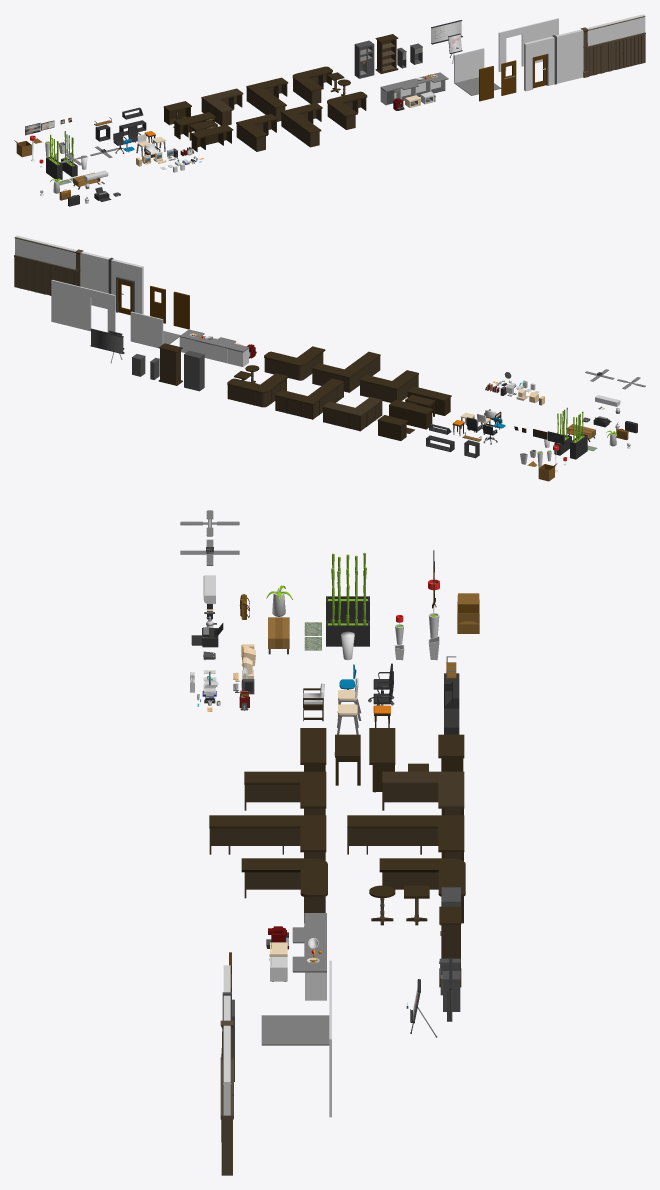
File: office_set_vnb.fbx
3 renders of one model, top to bottom at view 1: azimuth 30°, elevation 25°; view 2: azimuth 150°, elevation 25°; view 3: azimuth 270°, elevation 25°, orthographic. The views are drawn at different scales.
Parts seen in each view (by area): view 1: Wall_Standard_Alt_2, Wall_Standard_Alt_1, Wall_Standard, Office_Desk_4_Two_Alt, Office_Desk_4_Two, Office_Desk_4_Rounded_Alt, Office_Desk_4_Alt, Wall_Standard_Door, Office_Desk_4_Rounded, Office_Desk_4, Wall_Small, Bookshelf (+13 smaller); view 2: Wall_Standard_Alt_2, Office_Desk_4_Two, Office_Desk_4_Two_Alt, Wall_Medium, Office_Desk_4, Office_Desk_4_Rounded, Office_Desk_4_Rounded_Alt, Office_Desk_4_Alt, Wall_Standard_Alt_1, Wall_Standard, Wall_Small, Wall_Standard_Door (+12 smaller); view 3: Office_Desk_4_Two_Alt, Office_Desk_4_Two, Office_Desk_4_Rounded_Alt, Office_Desk_4, Office_Desk_4_Alt, Office_Desk_4_Rounded, Floor, Wall_Standard_Alt_2, Office_Desk_3, Bookshelf, Office_CounterB2, Office_Desk_3_Alt (+3 smaller).
Part boxes in pixels (x1=…): Wall_Standard_Alt_2: x1=614, y1=14, x2=645, y2=69; Wall_Standard_Alt_1: x1=586, y1=21, x2=615, y2=76; Wall_Standard: x1=556, y1=29, x2=583, y2=83; Office_Desk_4_Two_Alt: x1=280, y1=103, x2=322, y2=147; Office_Desk_4_Two: x1=246, y1=77, x2=288, y2=121; Office_Desk_4_Rounded_Alt: x1=327, y1=91, x2=367, y2=129; Office_Desk_4_Alt: x1=236, y1=113, x2=277, y2=151; Wall_Standard_Door: x1=524, y1=36, x2=554, y2=91; Office_Desk_4_Rounded: x1=292, y1=66, x2=332, y2=103; Office_Desk_4: x1=201, y1=88, x2=243, y2=125; Wall_Small: x1=454, y1=48, x2=484, y2=82; Bookshelf: x1=375, y1=34, x2=398, y2=73; Wall_Standard_Alt_2: x1=14, y1=235, x2=47, y2=294; Office_Desk_4_Two: x1=275, y1=378, x2=343, y2=419; Office_Desk_4_Two_Alt: x1=312, y1=351, x2=380, y2=392; Wall_Medium: x1=51, y1=280, x2=83, y2=329; Office_Desk_4: x1=323, y1=397, x2=382, y2=431; Office_Desk_4_Rounded: x1=227, y1=373, x2=288, y2=407; Office_Desk_4_Rounded_Alt: x1=264, y1=346, x2=325, y2=380; Office_Desk_4_Alt: x1=359, y1=370, x2=418, y2=402; Wall_Standard_Alt_1: x1=45, y1=243, x2=77, y2=295; Wall_Standard: x1=80, y1=251, x2=109, y2=308; Wall_Small: x1=130, y1=311, x2=163, y2=347; Wall_Standard_Door: x1=111, y1=259, x2=143, y2=314; Office_Desk_4_Two_Alt: x1=209, y1=815, x2=326, y2=860; Office_Desk_4_Two: x1=347, y1=815, x2=464, y2=860; Office_Desk_4_Rounded_Alt: x1=241, y1=858, x2=327, y2=922; Office_Desk_4: x1=382, y1=771, x2=464, y2=815; Office_Desk_4_Alt: x1=244, y1=771, x2=326, y2=815; Office_Desk_4_Rounded: x1=379, y1=858, x2=465, y2=923; Floor: x1=261, y1=1015, x2=329, y2=1045; Wall_Standard_Alt_2: x1=220, y1=1052, x2=233, y2=1175; Office_Desk_3: x1=369, y1=728, x2=395, y2=792; Bookshelf: x1=439, y1=906, x2=461, y2=987; Office_CounterB2: x1=292, y1=956, x2=326, y2=1000; Office_Desk_3_Alt: x1=300, y1=728, x2=326, y2=771.
Size of the model in its own units: 3961 by 312 by 869.
